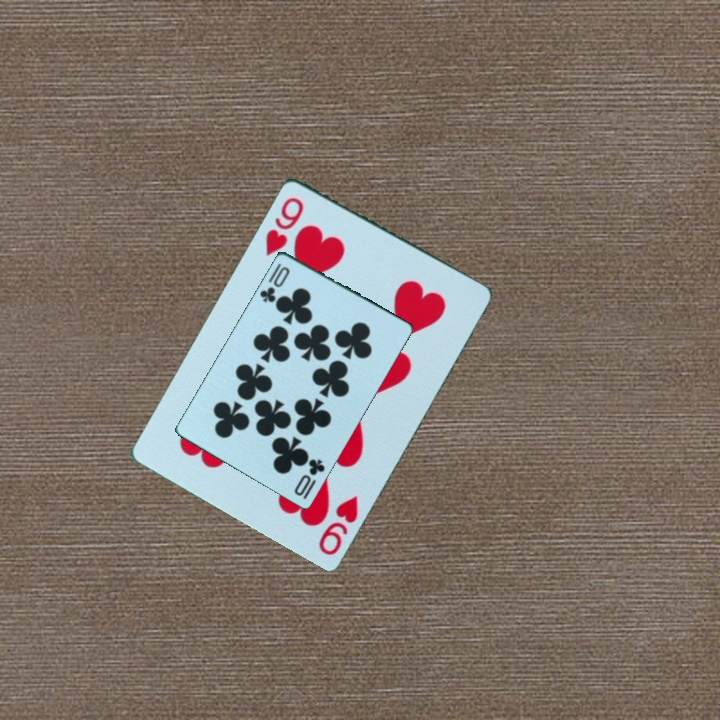10c: (256, 262, 293, 305), (299, 455, 328, 502)
9h: (314, 490, 362, 558), (261, 192, 307, 259)
